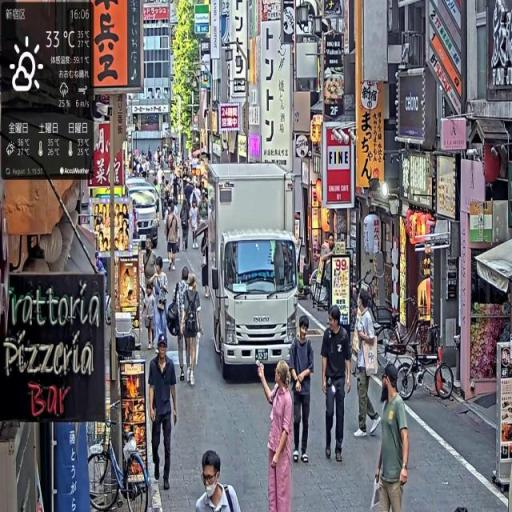person: (257, 357, 295, 511), (320, 304, 353, 469), (375, 362, 411, 511), (148, 335, 180, 500), (289, 315, 316, 468), (353, 288, 379, 444), (196, 450, 243, 512), (184, 272, 205, 387), (152, 256, 171, 351), (164, 204, 182, 271), (143, 282, 158, 354), (180, 197, 192, 255), (190, 199, 200, 250)
